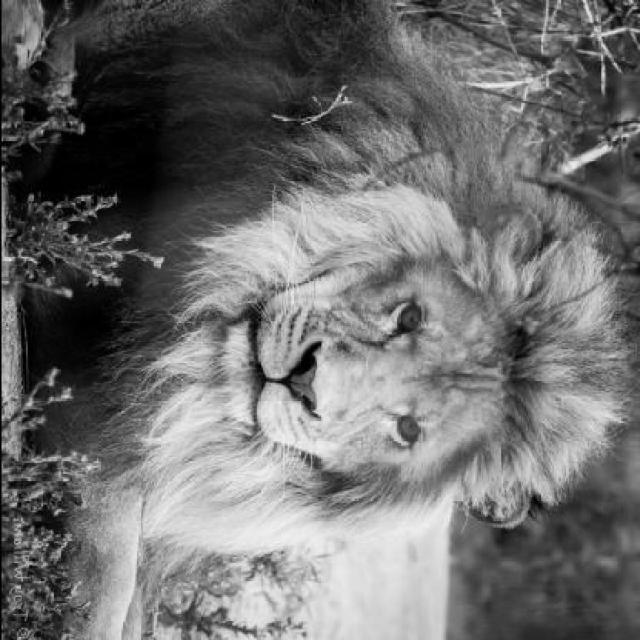Lion: (20, 1, 626, 637)
